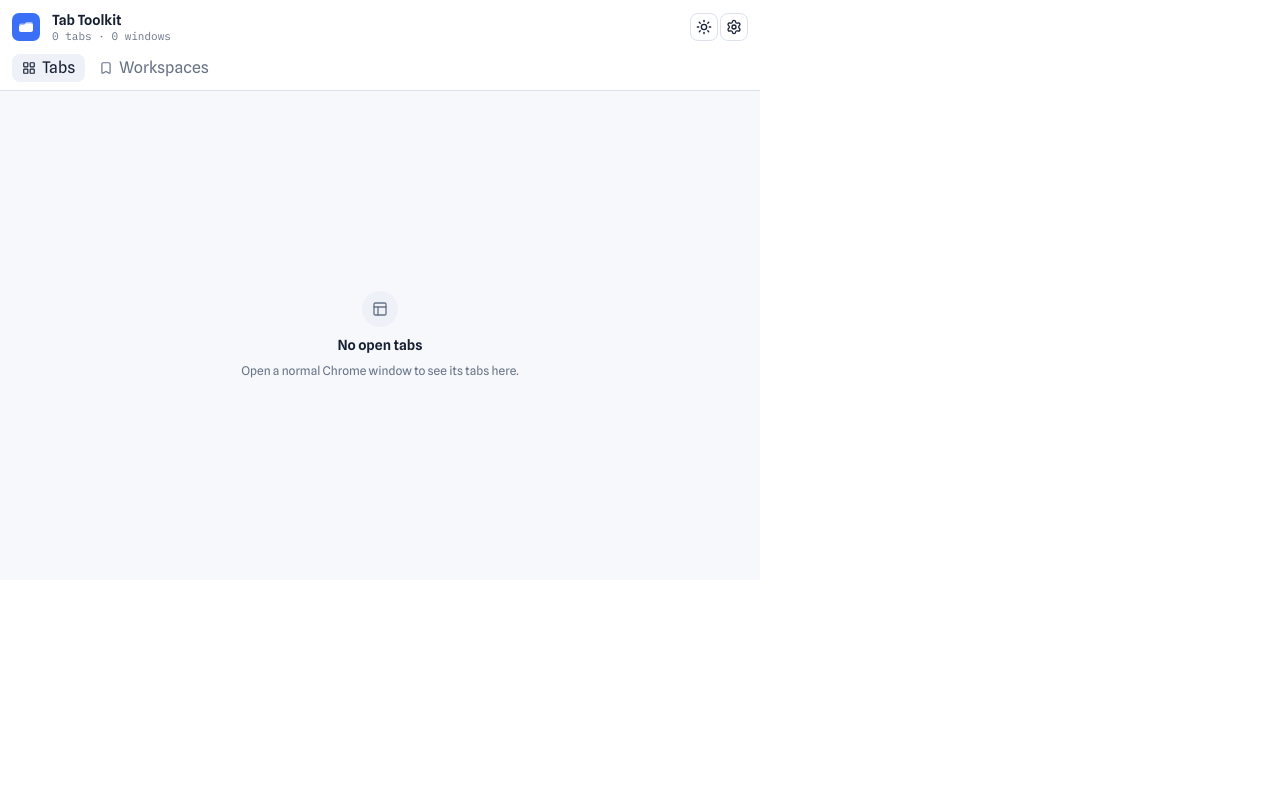
Test: tab-toolkit end-to-end wiring › opens a saved workspace into a new window, recreating its tabs in order and reapplying pinned state
Click the button "Workspaces": (154, 68) [89,54,219,82]
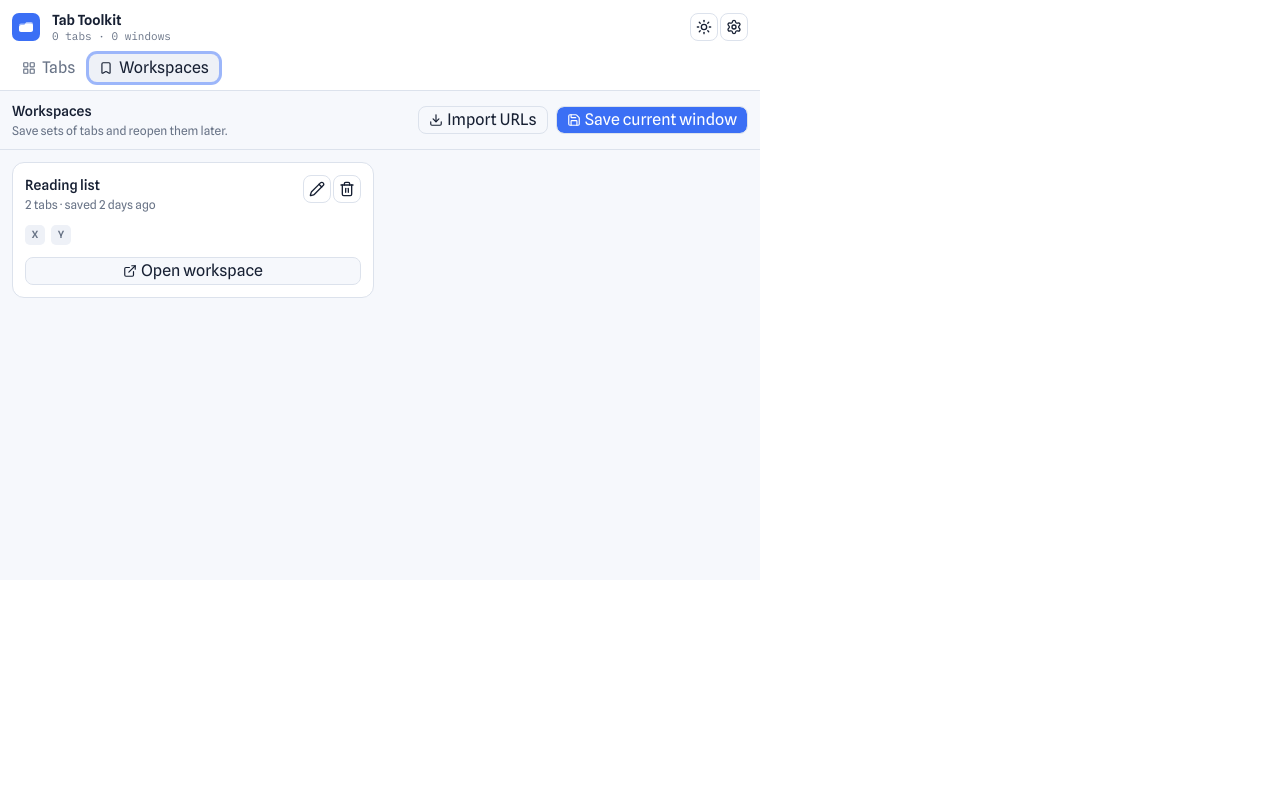
expect the heading "Reading list" is shown: met, box [25,177,100,193]
Click the button with aria-label "Open workspace: Reading list": (193, 271) [25,257,361,285]
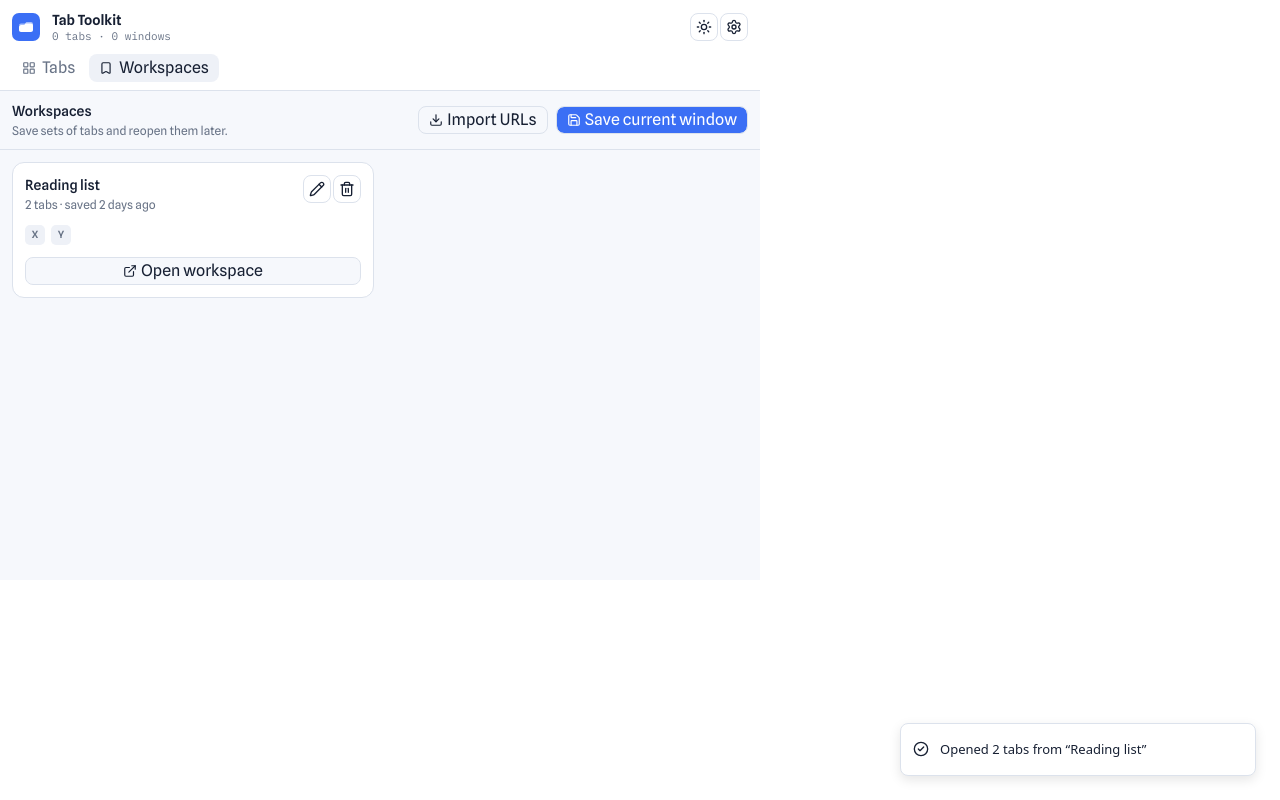
expect the text "Opened 2 tabs from “Reading list”" is shown: met, box [940,740,1146,759]
